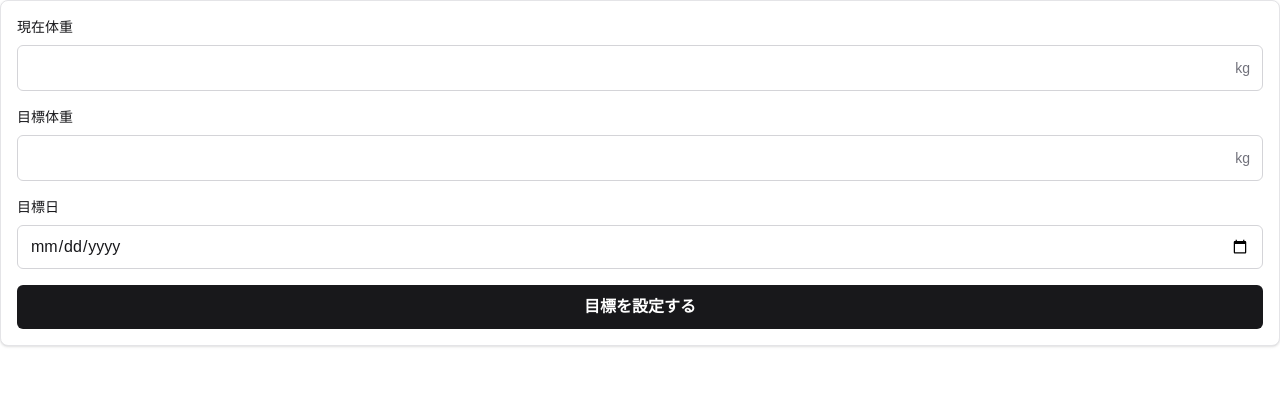
GoalSettingForm › shows a success message when submit succeeds
The image size is (1280, 416).
Type "80.1" into the number field labelled "現在体重". click: (627, 68)
box: x1=18 y1=46 x2=1235 y2=90
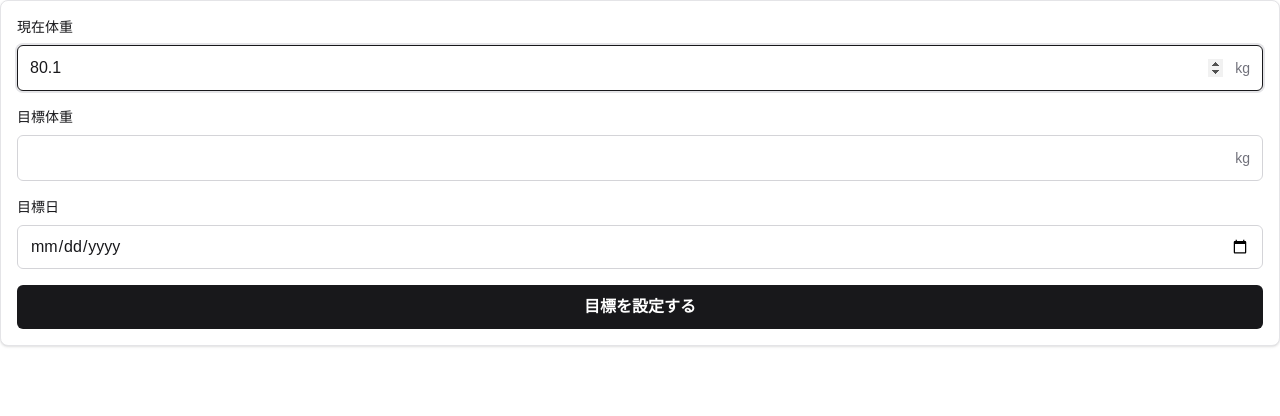
Type "75.0" into the number field labelled "目標体重". click: (627, 158)
box: x1=18 y1=136 x2=1235 y2=180
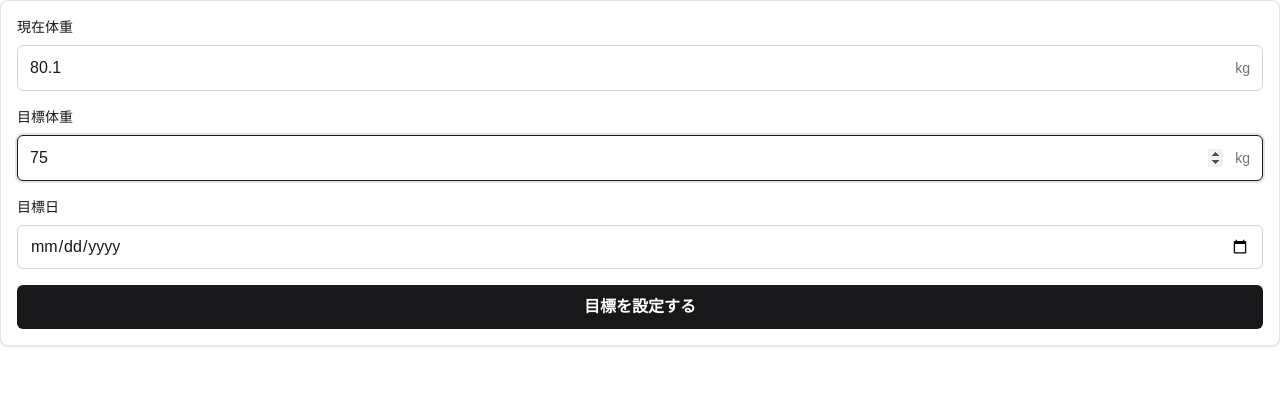
Type "2026-06-30" into the date field labelled "目標日". click: (640, 247)
box: x1=17 y1=225 x2=1263 y2=269
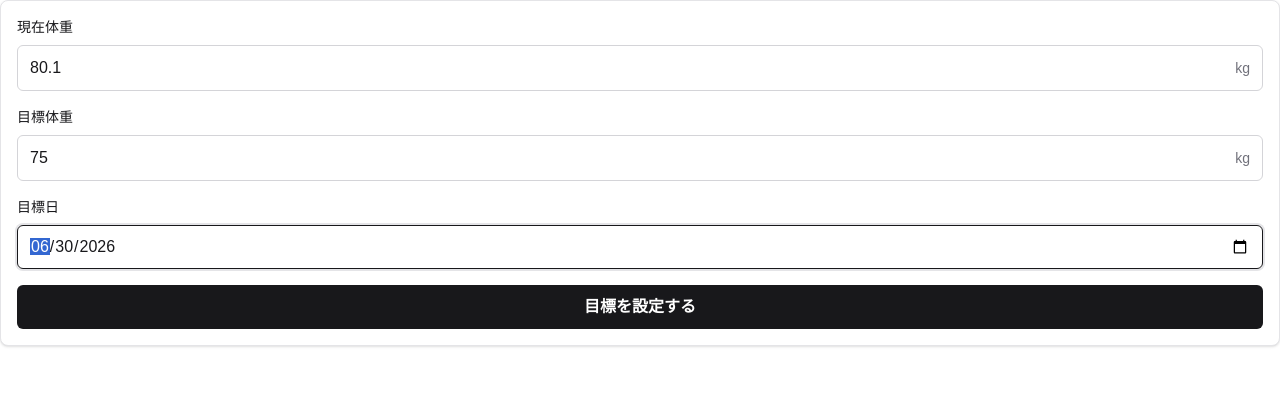
Click the button "目標を設定する". click: (640, 307)
box: x1=17 y1=285 x2=1263 y2=329
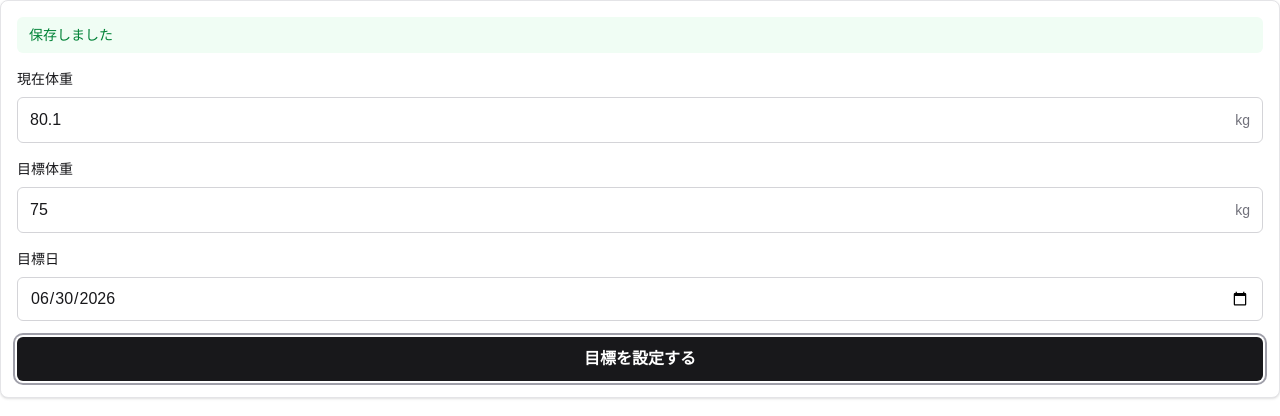
Expected: the text "保存しました" is shown, x1=17 y1=17 x2=1263 y2=53
